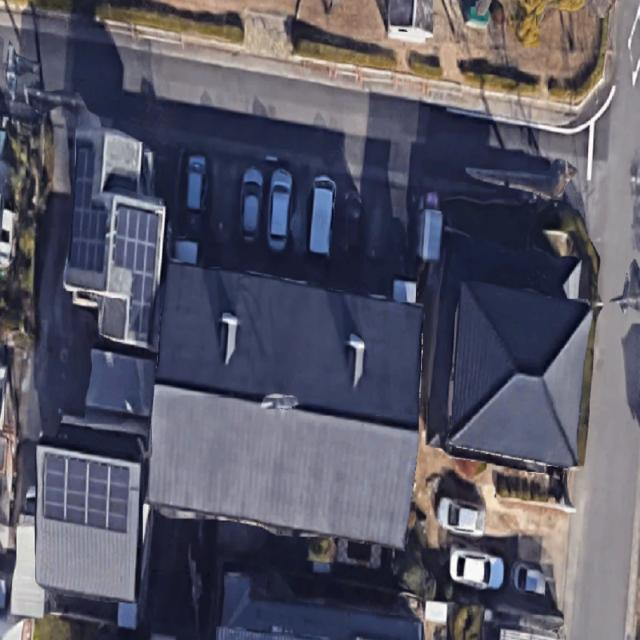Batiment: (148, 262, 422, 548), (446, 281, 592, 466), (64, 128, 166, 347), (36, 445, 140, 600), (388, 0, 432, 42)
